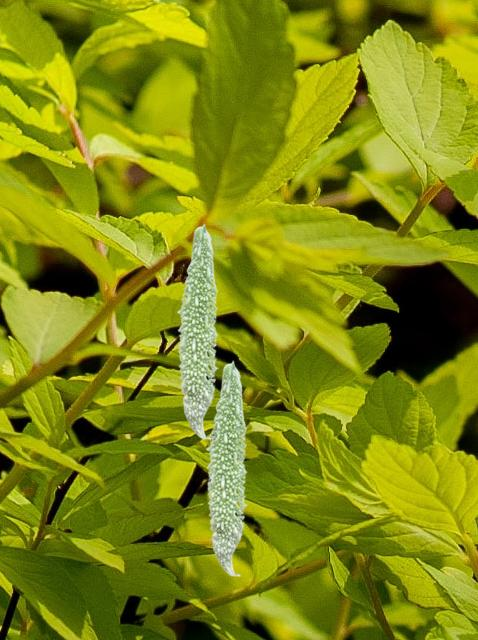ampalaya: (204, 360, 248, 578), (175, 223, 219, 441)
